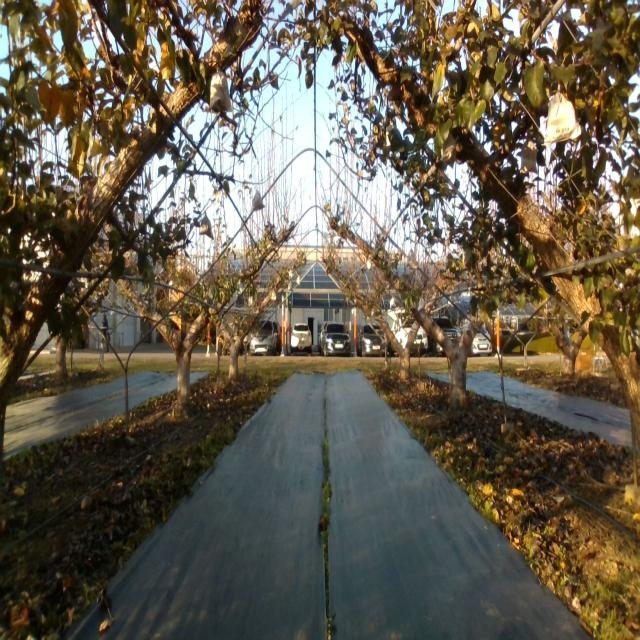pearbags: (546, 90, 583, 144), (210, 69, 232, 112), (520, 139, 536, 173), (200, 212, 213, 239), (253, 190, 264, 212), (407, 250, 418, 269)
